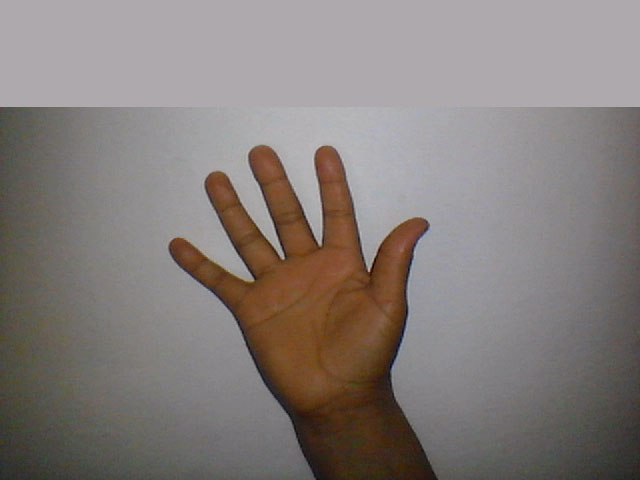hand: (154, 131, 439, 390)
